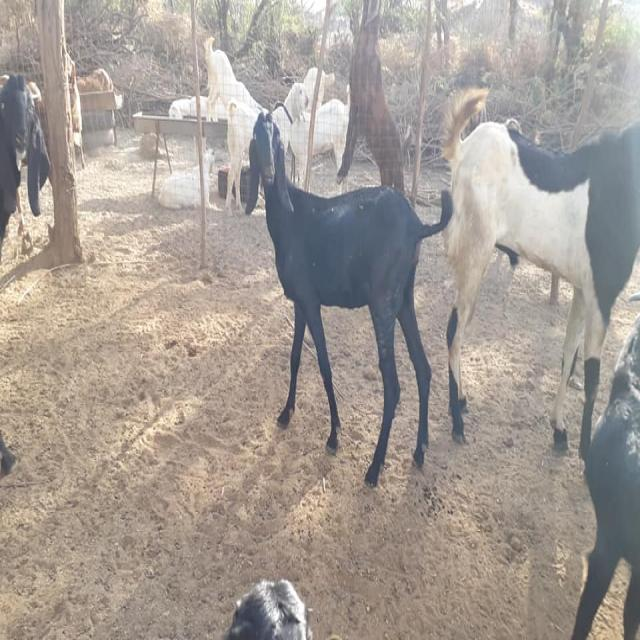Goat: (244, 103, 453, 487), (439, 85, 639, 461), (570, 311, 639, 638), (336, 0, 412, 193), (0, 71, 50, 261), (221, 576, 313, 639)
